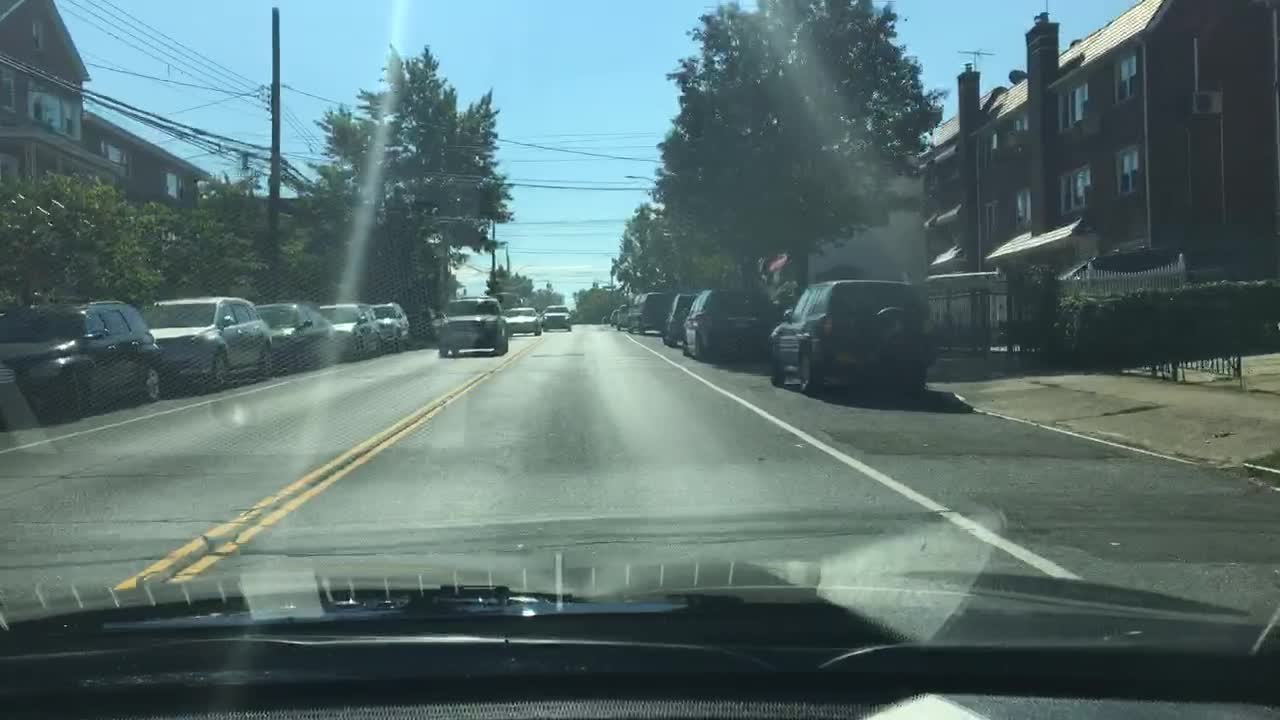car: (765, 277, 940, 402), (0, 296, 166, 425), (148, 293, 275, 398), (680, 285, 779, 364), (256, 298, 340, 378), (436, 297, 511, 359), (315, 301, 384, 362), (658, 292, 700, 348), (623, 289, 674, 335), (369, 301, 412, 352), (501, 302, 543, 335), (540, 301, 574, 333), (430, 308, 449, 339), (615, 301, 633, 329), (607, 308, 622, 328)
